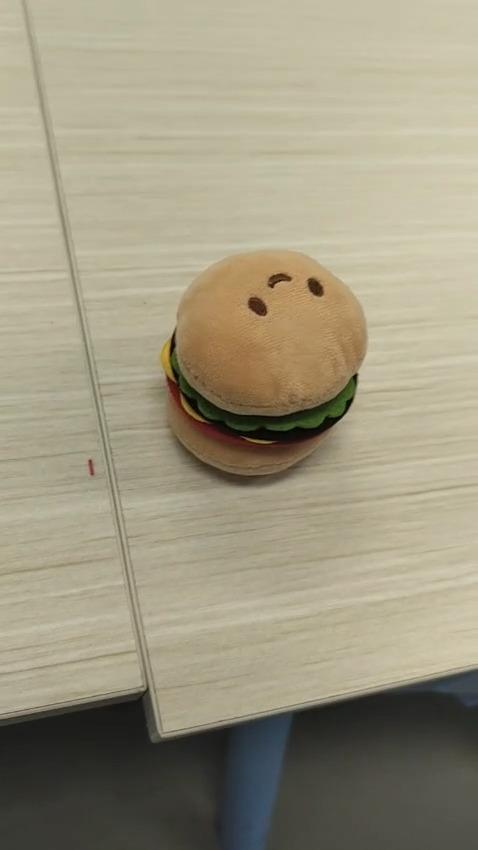hamburger: (159, 247, 368, 478)
